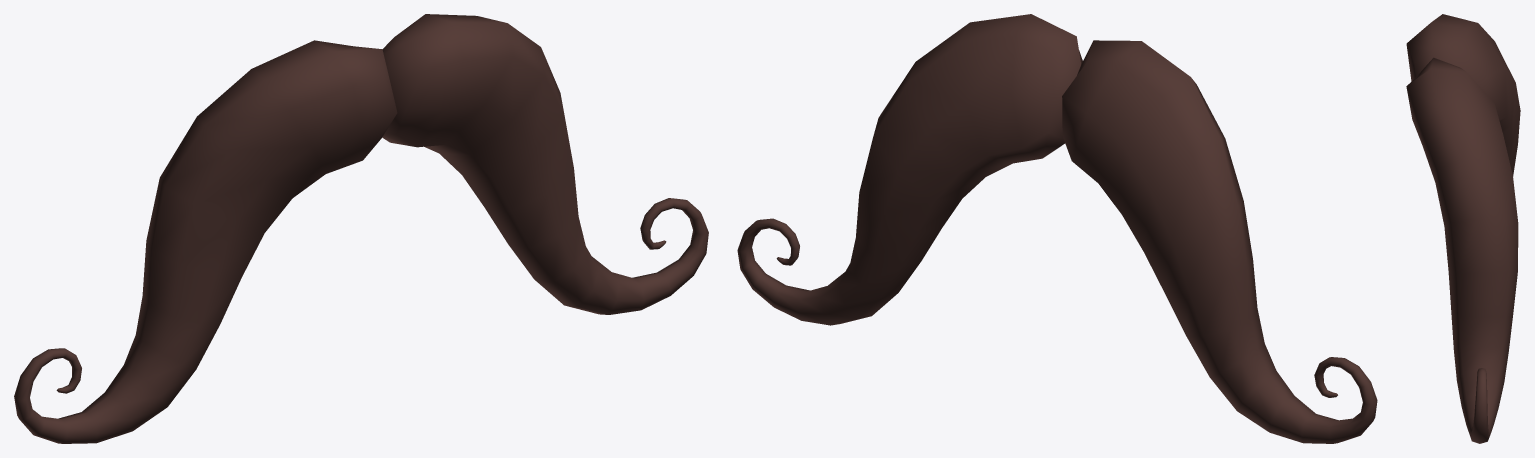
The model's file is Mustache_Brown_008.glb.
3 renders of one model, left to right at view 1: azimuth 30°, elevation 25°; view 2: azimuth 150°, elevation 25°; view 3: azimuth 270°, elevation 25°, orthographic. The views are drawn at different scales.
Parts seen in each view (by area): view 1: Mustache_Brown_008; view 2: Mustache_Brown_008; view 3: Mustache_Brown_008.
Boxes of the visible parts, bbox=[...] form: Mustache_Brown_008: bbox=[14, 14, 708, 443]; Mustache_Brown_008: bbox=[737, 14, 1377, 443]; Mustache_Brown_008: bbox=[1406, 14, 1520, 443].
Bounding box in the file's own units: 0.2993 × 0.1494 × 0.054.
1 material, 1 textured.
